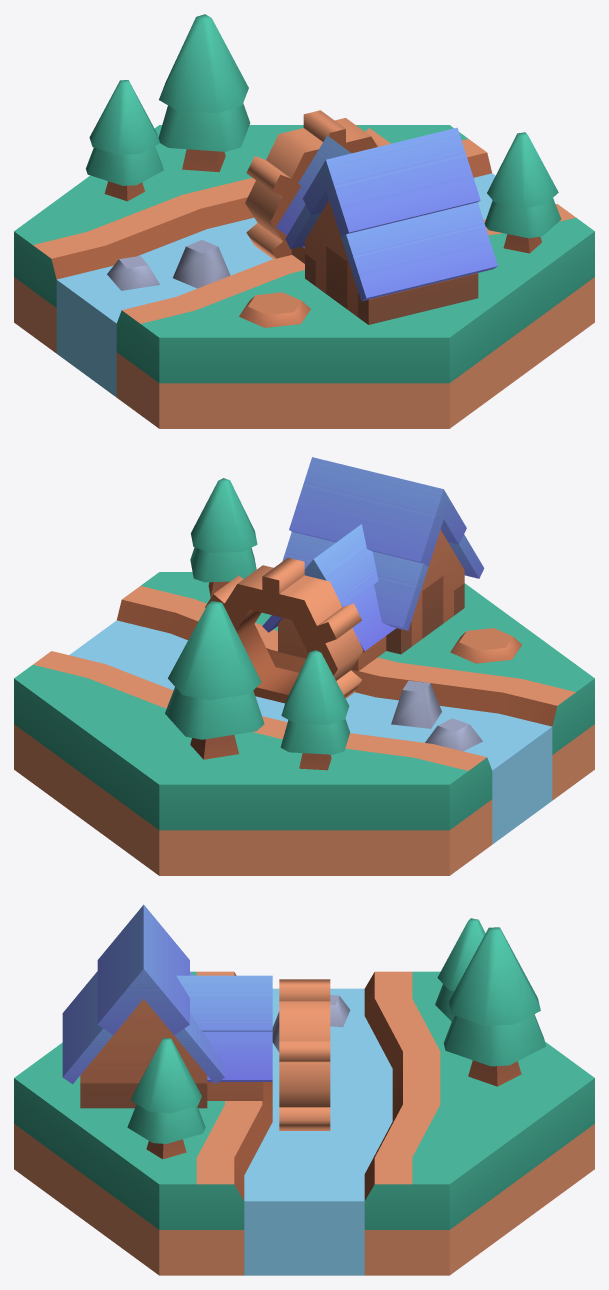
File: kenney-hexagon-building-watermill.glb
The picture shows the model from 3 angles, top to bottom: view 1: azimuth 30°, elevation 25°; view 2: azimuth 150°, elevation 25°; view 3: azimuth 270°, elevation 25°; orthographic projection.
Parts seen in each view (by area): view 1: building_watermill, rotate_z; view 2: building_watermill, rotate_z; view 3: building_watermill, rotate_z.
Boxes of the visible parts, bbox=[...] form: building_watermill: bbox=[14, 14, 594, 428]; rotate_z: bbox=[245, 110, 390, 259]; building_watermill: bbox=[14, 457, 594, 875]; rotate_z: bbox=[205, 557, 363, 703]; building_watermill: bbox=[14, 904, 594, 1275]; rotate_z: bbox=[279, 979, 330, 1130].
Size of the model in its own units: 1 by 0.5192 by 1.15.
Materials: 1 (1 with a texture image).
